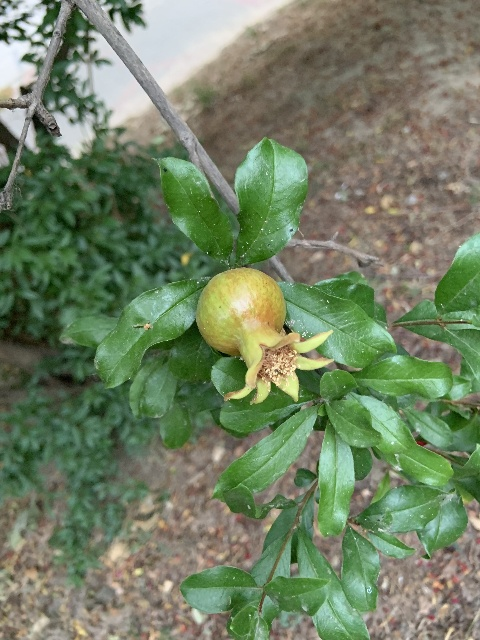mid-growth: (196, 267, 334, 406)
